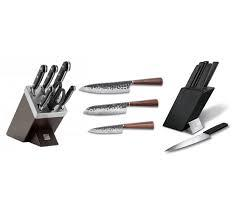Knife: (164, 122, 228, 152)
